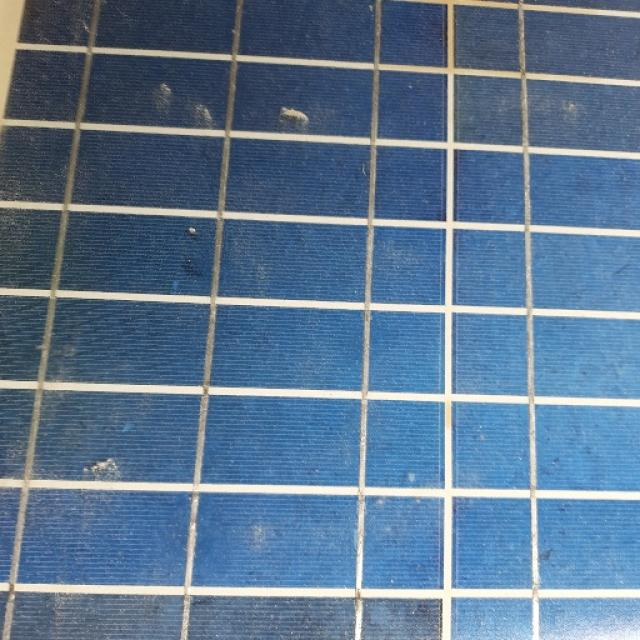Dirty: (0, 6, 640, 612)
